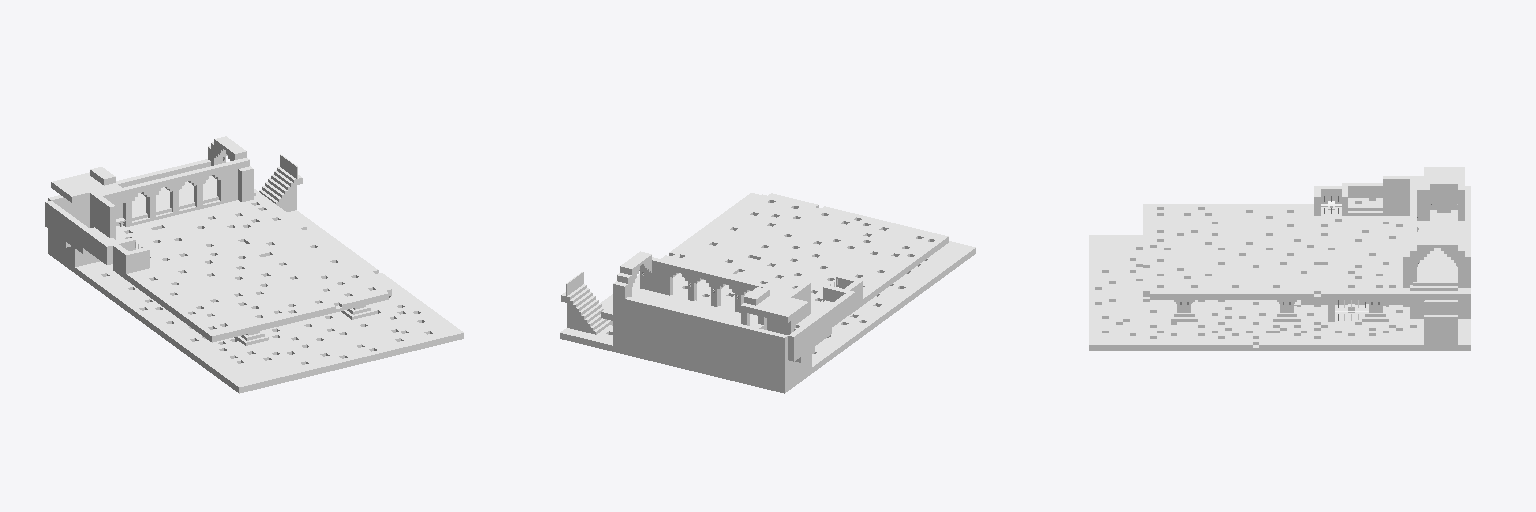
File: map2.obj
The picture shows the model from 3 angles: view 1: azimuth 30°, elevation 25°; view 2: azimuth 150°, elevation 25°; view 3: azimuth 270°, elevation 25°; orthographic projection.
Visible parts, largest first — view 1: New_World_(1)__184_4_-96_to_223_255_-41; view 2: New_World_(1)__184_4_-96_to_223_255_-41; view 3: New_World_(1)__184_4_-96_to_223_255_-41.
Boxes of the visible parts, <box> form: New_World_(1)__184_4_-96_to_223_255_-41: <box>45,136,463,393</box>; New_World_(1)__184_4_-96_to_223_255_-41: <box>560,193,975,393</box>; New_World_(1)__184_4_-96_to_223_255_-41: <box>1089,167,1470,350</box>.
Bounding box in the file's own units: 40 × 13 × 56.